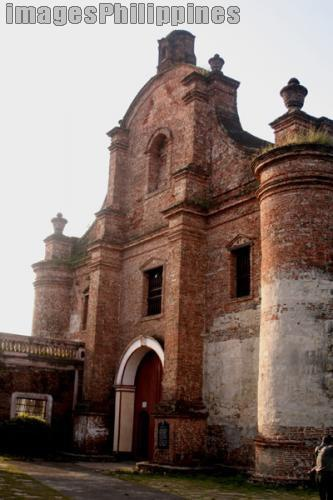santa_maria_church_santa_maria_ilocos_sur: (28, 26, 333, 491)
unfinished_paint: (194, 262, 333, 441)
